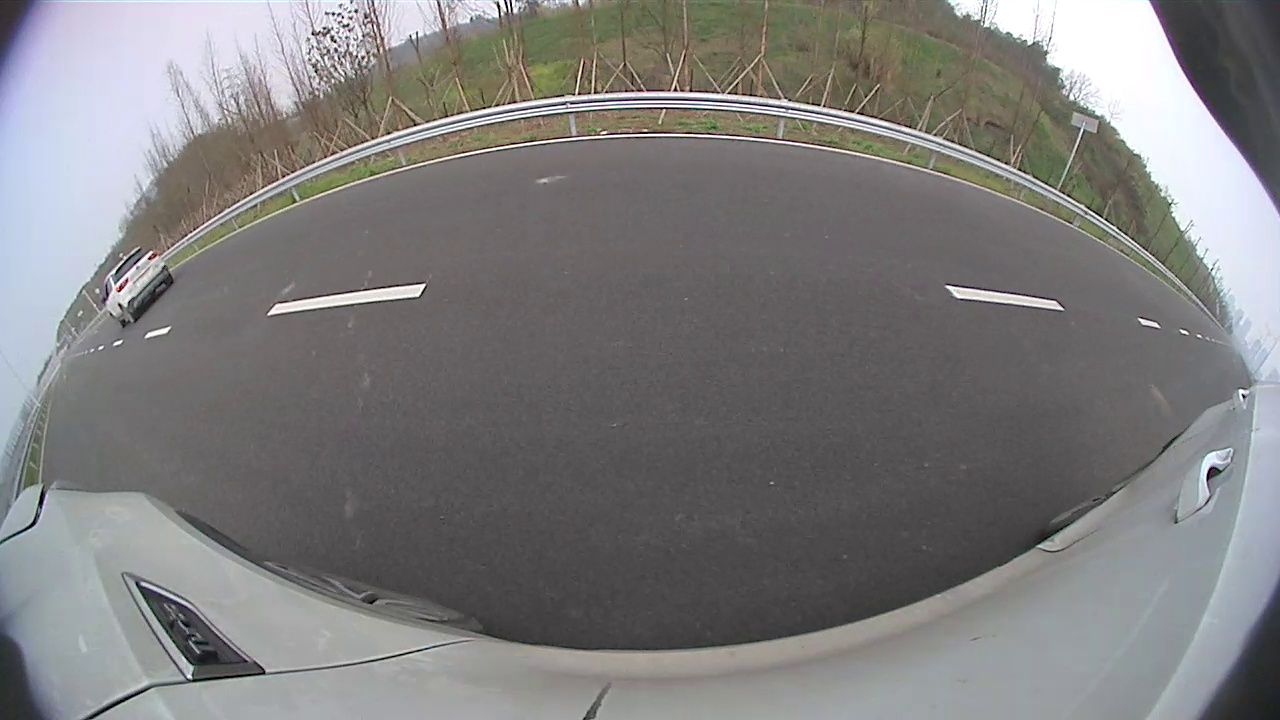car: (101, 246, 174, 329)
rear: (121, 306, 136, 325)
